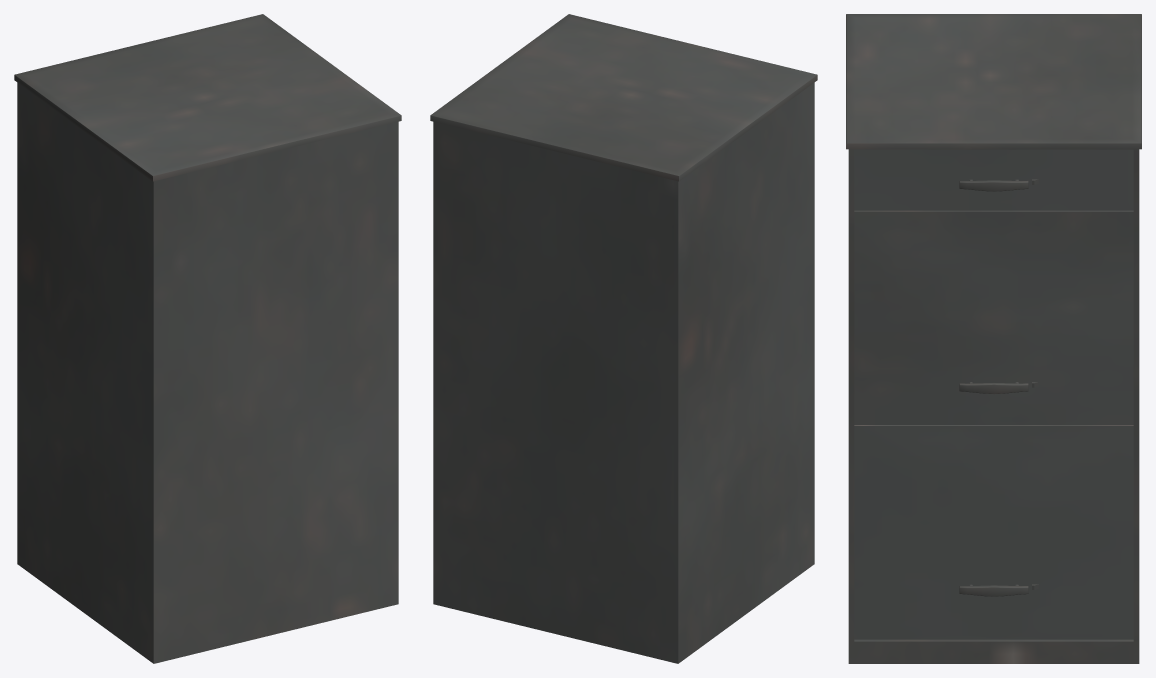
The model's file is Cajon.obj.
3 views of the same model, side by side, from view 1: azimuth 30°, elevation 25°; view 2: azimuth 150°, elevation 25°; view 3: azimuth 270°, elevation 25° (orthographic). The views are drawn at different scales.
Visible parts, largest first — view 1: Cube.000; view 2: Cube.000; view 3: Cube.000.
Part boxes in pixels (x1=…): Cube.000: x1=14, y1=14, x2=401, y2=663; Cube.000: x1=430, y1=14, x2=817, y2=663; Cube.000: x1=846, y1=14, x2=1141, y2=663.
Bounding box in the file's own units: 2.77 × 5.07 × 2.61.
1 material, 1 textured.
